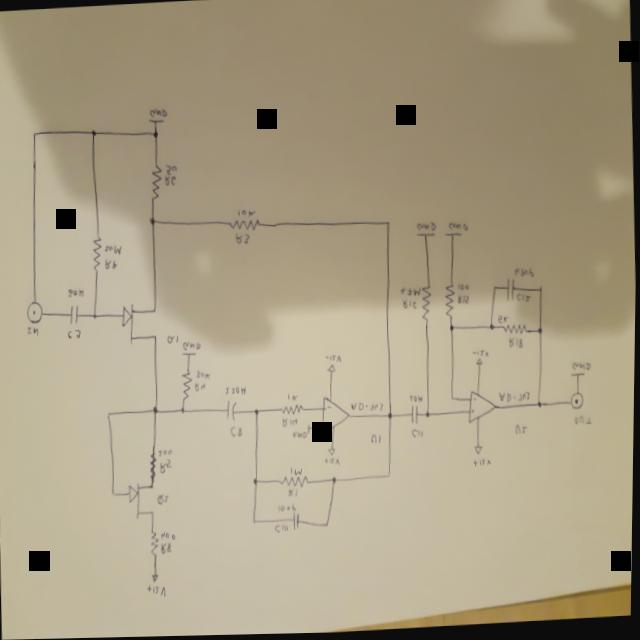capacitor: (226, 400, 239, 422), (409, 405, 421, 427), (69, 304, 80, 327), (506, 278, 516, 302), (292, 512, 301, 532)
ground: (570, 373, 588, 382), (445, 232, 463, 240), (416, 233, 436, 240), (148, 117, 164, 124), (182, 352, 197, 358), (308, 424, 312, 436)
junction: (151, 130, 159, 140), (149, 217, 157, 227), (537, 328, 544, 338), (90, 129, 97, 138), (537, 402, 543, 411), (489, 326, 495, 334), (255, 408, 261, 416), (93, 312, 99, 320), (388, 414, 394, 422), (425, 412, 431, 420), (153, 407, 159, 415), (450, 396, 456, 404), (449, 326, 455, 334), (31, 131, 37, 139), (332, 478, 338, 485), (385, 222, 391, 229), (107, 411, 112, 419), (180, 408, 186, 414), (325, 523, 331, 529), (538, 289, 544, 295), (112, 491, 117, 498), (493, 286, 498, 292), (387, 475, 392, 481), (254, 480, 258, 486), (253, 520, 257, 526)
resistor: (228, 216, 261, 234), (281, 472, 311, 490), (150, 164, 163, 201), (91, 236, 103, 272), (444, 285, 456, 320), (421, 288, 432, 323), (502, 325, 528, 339), (181, 371, 193, 401), (149, 530, 161, 558), (282, 405, 305, 418), (149, 452, 159, 480)
source: (327, 365, 337, 375), (475, 447, 484, 458), (329, 447, 337, 457), (476, 360, 484, 368), (153, 575, 160, 583)
terminal: (26, 301, 43, 323), (570, 393, 585, 413)
text: (351, 401, 385, 415), (498, 392, 532, 406), (146, 583, 170, 600), (225, 385, 247, 398), (400, 287, 422, 300), (508, 338, 526, 353), (574, 416, 593, 430), (572, 363, 593, 375), (104, 244, 123, 257), (278, 502, 297, 515), (159, 459, 174, 475), (67, 287, 85, 300), (236, 208, 257, 219), (474, 458, 493, 470), (183, 340, 202, 352), (289, 465, 306, 478), (514, 270, 534, 281), (281, 418, 301, 429), (448, 223, 468, 234), (416, 223, 436, 234), (326, 353, 344, 365), (235, 233, 251, 246), (403, 300, 419, 313), (162, 530, 178, 543), (292, 430, 310, 441), (68, 328, 82, 341), (276, 523, 291, 535), (149, 108, 169, 117), (325, 457, 341, 468), (515, 295, 531, 306), (161, 542, 174, 555), (104, 259, 118, 271), (514, 426, 528, 438), (158, 449, 174, 459), (230, 427, 243, 439), (195, 382, 208, 394), (166, 164, 178, 177), (166, 335, 181, 345), (159, 494, 171, 506), (371, 435, 383, 447), (473, 351, 489, 360), (164, 175, 176, 187), (457, 296, 470, 307), (410, 396, 424, 406), (197, 371, 211, 381), (26, 326, 40, 336), (288, 489, 299, 501), (412, 430, 424, 440), (497, 316, 509, 326), (288, 394, 300, 403), (458, 285, 470, 293), (327, 406, 333, 412), (471, 410, 475, 416), (325, 424, 329, 430), (473, 400, 477, 404)
transistor: (120, 304, 158, 347), (127, 482, 157, 521)
